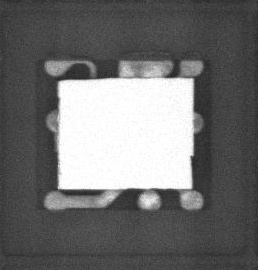DIE_BROKEN: (188, 154, 194, 188)
